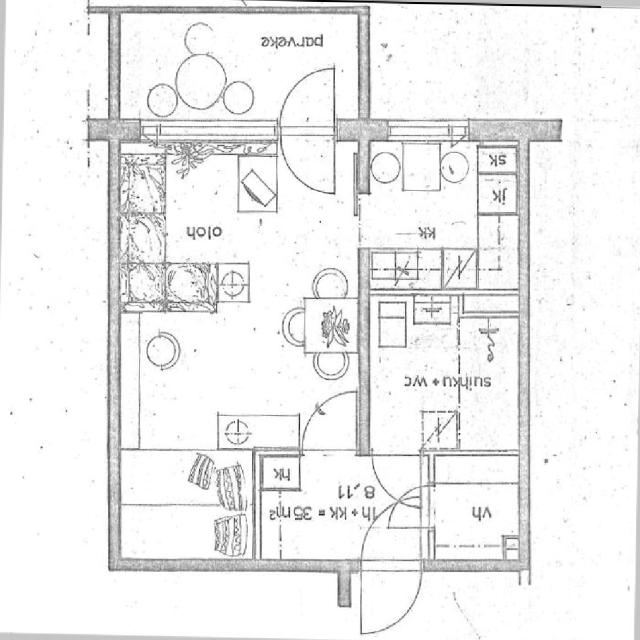door: (358, 562, 427, 640), (279, 129, 341, 194), (303, 391, 358, 455), (280, 68, 335, 129), (390, 484, 424, 528)
window: (140, 114, 278, 147), (386, 116, 474, 144)
zone: (118, 135, 360, 451), (356, 135, 523, 293), (365, 294, 525, 454), (259, 455, 422, 563), (429, 453, 522, 570), (281, 70, 334, 132)
